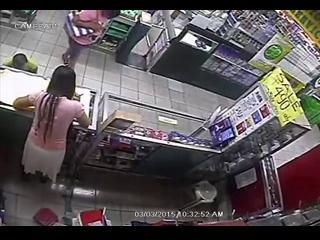Normal: (12, 66, 92, 190)
